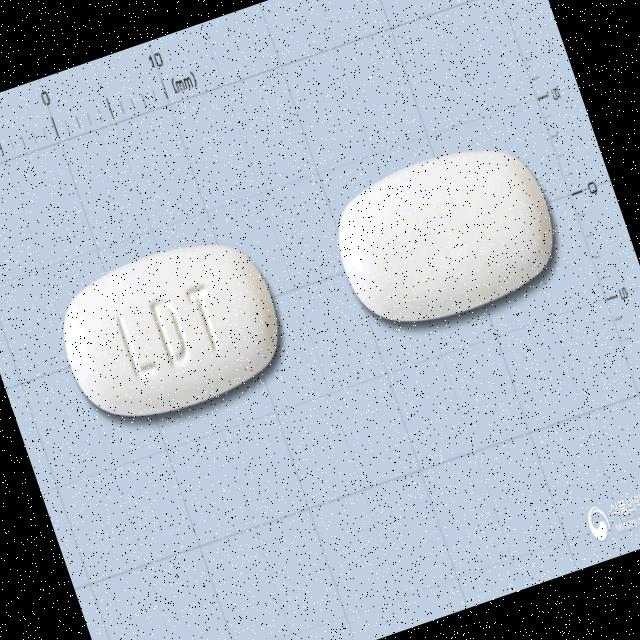Sebivo Tab: (44, 220, 298, 440), (318, 124, 572, 344)
